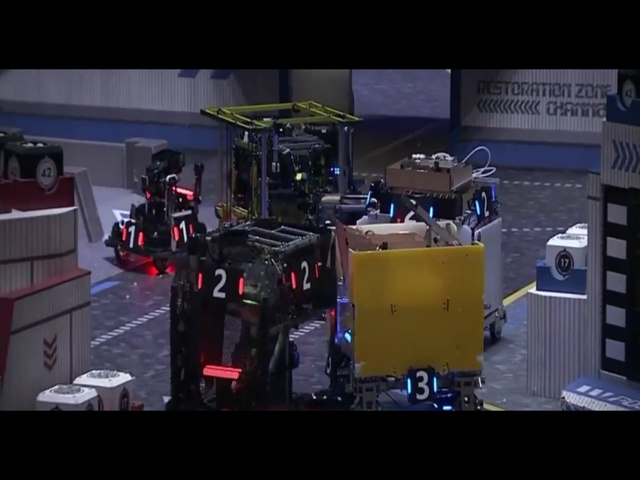bluePlate: (389, 193, 435, 226), (404, 366, 438, 403), (472, 188, 495, 222)
redPlate: (195, 262, 247, 307), (287, 258, 322, 295), (120, 221, 147, 255), (170, 218, 197, 247)
